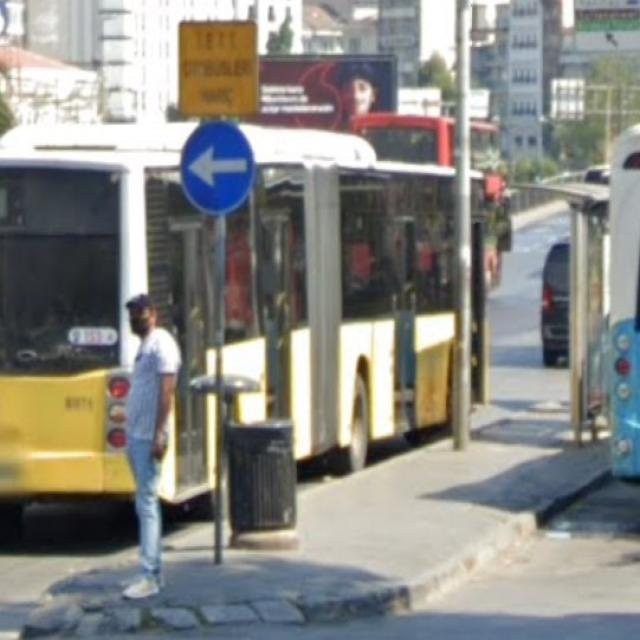Turn Left: (175, 125, 261, 215)
